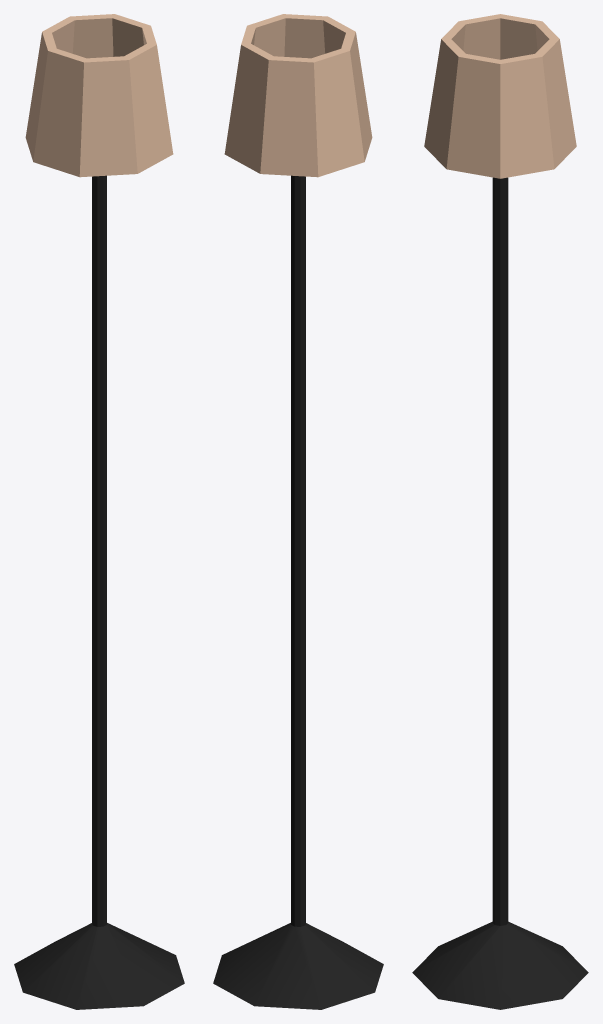
File: TallLamp_1.fbx
3 renders of one model, left to right at view 1: azimuth 30°, elevation 25°; view 2: azimuth 150°, elevation 25°; view 3: azimuth 270°, elevation 25°, orthographic.
Visible parts, largest first — view 1: pCylinder3, pCylinder8; view 2: pCylinder3, pCylinder8; view 3: pCylinder3, pCylinder8.
Part boxes in pixels (x1=…): pCylinder3: x1=14, y1=175, x2=184, y2=1009; pCylinder8: x1=25, y1=14, x2=173, y2=177; pCylinder3: x1=213, y1=175, x2=383, y2=1009; pCylinder8: x1=224, y1=14, x2=372, y2=177; pCylinder3: x1=412, y1=177, x2=588, y2=1009; pCylinder8: x1=424, y1=14, x2=576, y2=178.
Size of the model in its own units: 0.004 by 0.0233 by 0.004.
